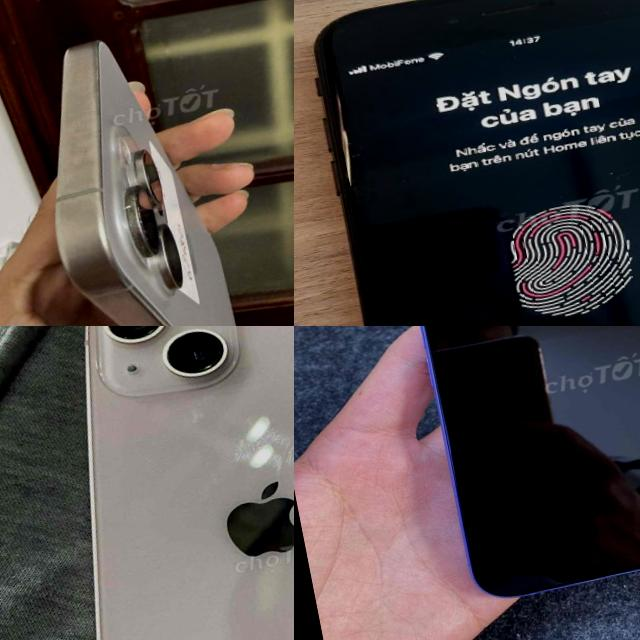gen_12_13: (0, 326, 294, 640)
gen_15: (6, 6, 258, 326)
gen_16: (422, 326, 640, 597)
gen_7_8: (294, 0, 640, 326)
